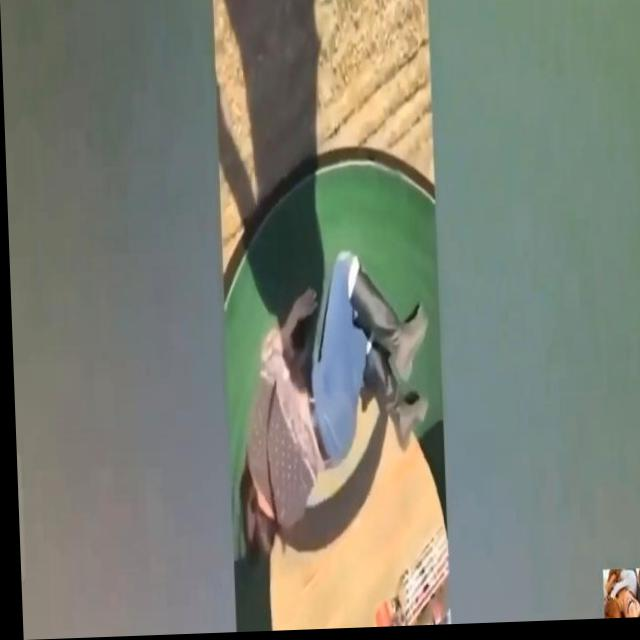fall: (231, 240, 438, 549)
